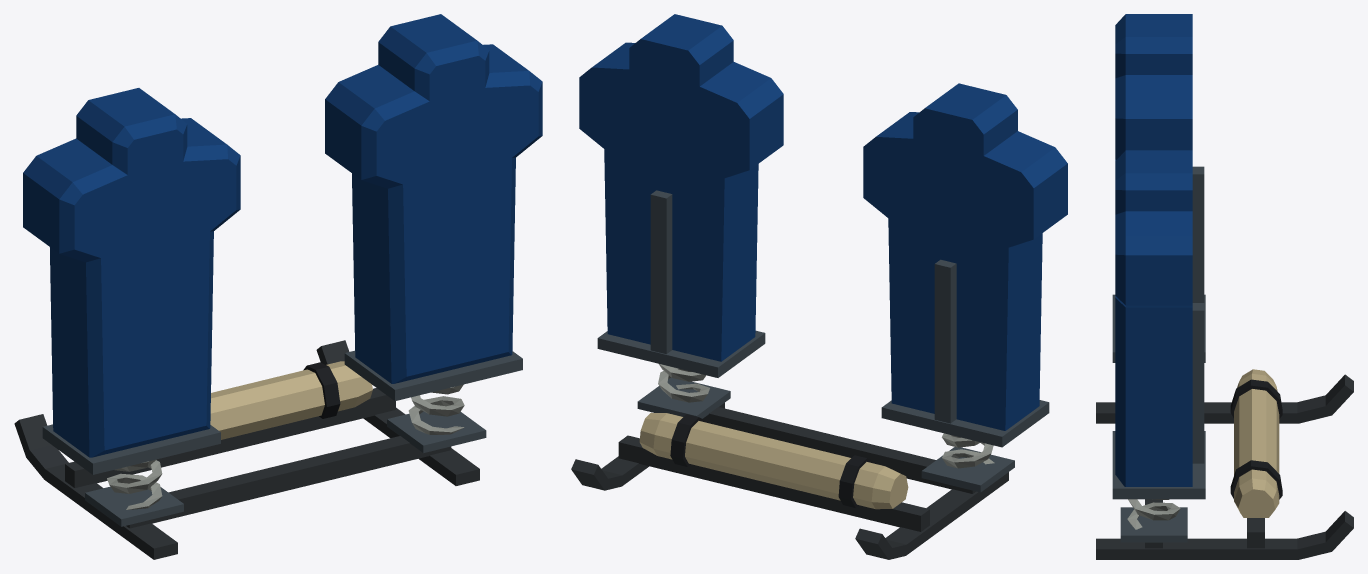
The model's file is blocking-sled-d83edd.glb.
The picture shows the model from 3 angles, left to right: view 1: azimuth 30°, elevation 25°; view 2: azimuth 150°, elevation 25°; view 3: azimuth 270°, elevation 25°; orthographic projection. The views are drawn at different scales.
Visible parts, largest first — view 1: pad-2, pad-1, blocking-sled, tarp; view 2: pad-2, pad-1, blocking-sled, tarp; view 3: pad-2, pad-1, blocking-sled, tarp.
Boxes of the visible parts, x1=… form: pad-2: x1=325, y1=14, x2=542, y2=400; pad-1: x1=23, y1=88, x2=240, y2=474; blocking-sled: x1=14, y1=340, x2=486, y2=559; tarp: x1=210, y1=361, x2=372, y2=439; pad-2: x1=579, y1=14, x2=783, y2=377; pad-1: x1=863, y1=83, x2=1067, y2=447; blocking-sled: x1=571, y1=364, x2=1014, y2=559; tarp: x1=639, y1=412, x2=908, y2=509; pad-2: x1=1112, y1=150, x2=1205, y2=499; pad-1: x1=1112, y1=14, x2=1205, y2=362; blocking-sled: x1=1096, y1=374, x2=1353, y2=559; tarp: x1=1230, y1=369, x2=1282, y2=517.
Size of the model in its own units: 2 by 1.68 by 1.
